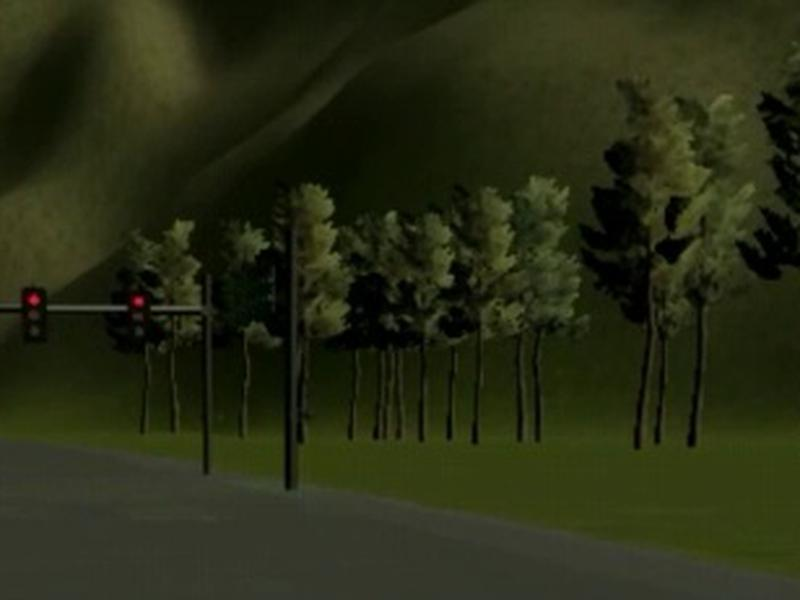Red: (20, 286, 46, 343), (128, 293, 152, 344)
